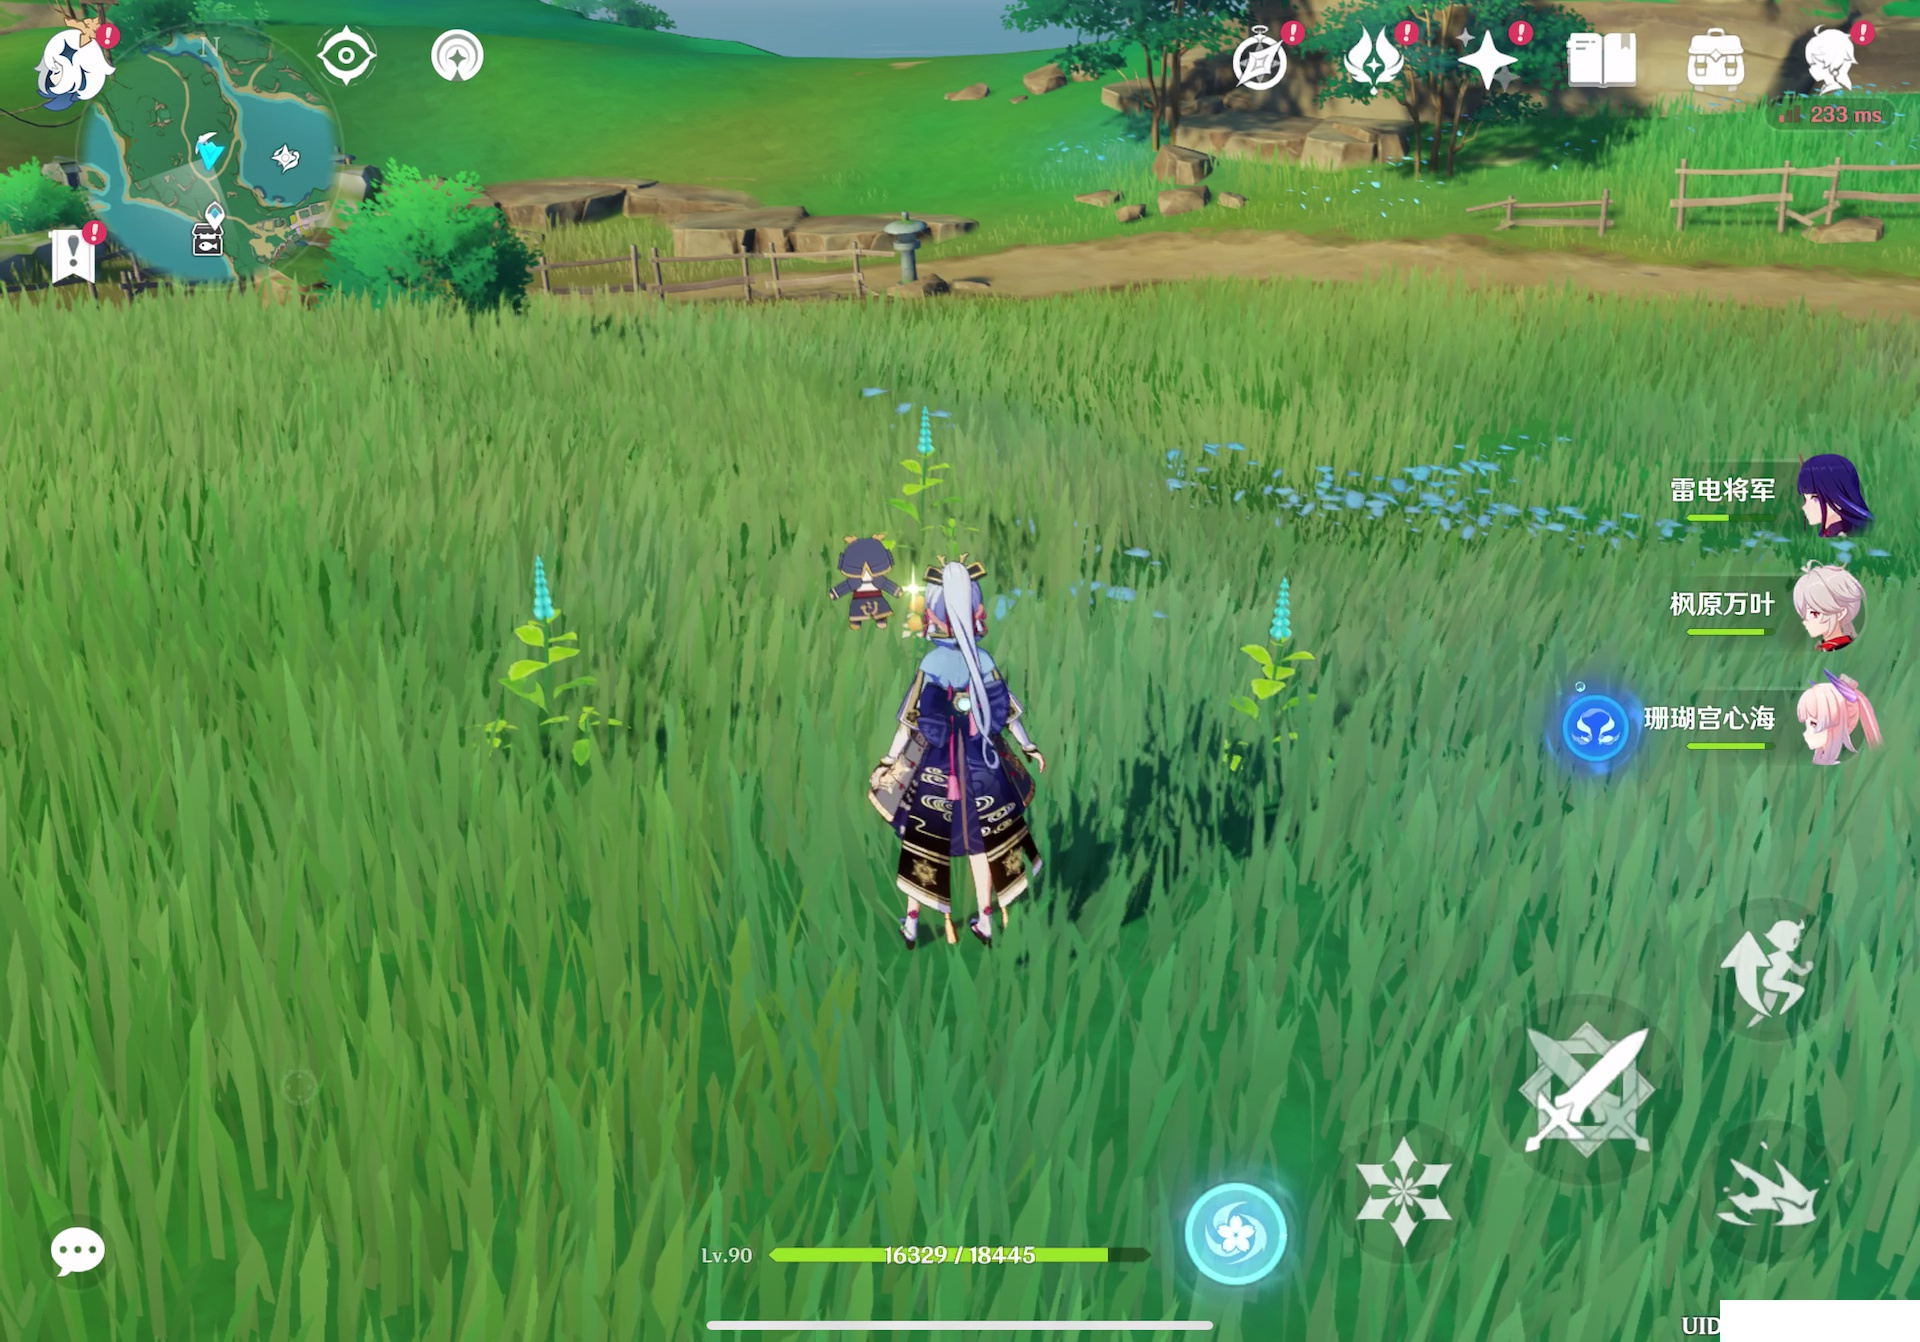没用的薄荷: (1199, 565, 1336, 842), (481, 532, 624, 794), (877, 410, 964, 551)
神里绫龟: (853, 562, 1067, 969)
